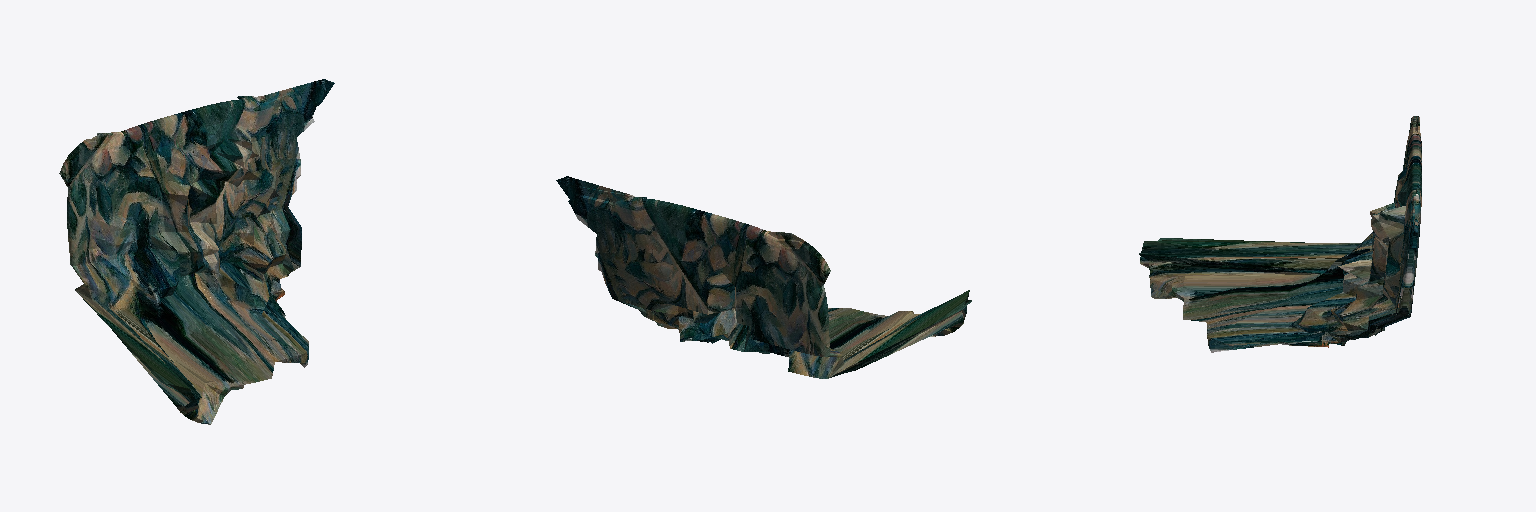
The picture shows the model from 3 angles: view 1: azimuth 30°, elevation 25°; view 2: azimuth 150°, elevation 25°; view 3: azimuth 270°, elevation 25°; orthographic projection.
Visible parts, largest first — view 1: 000_Box_-_baked; view 2: 000_Box_-_baked; view 3: 000_Box_-_baked.
Boxes of the visible parts, box(x1,y1,x2,y2) form: 000_Box_-_baked: box(59, 79, 334, 424); 000_Box_-_baked: box(556, 176, 971, 378); 000_Box_-_baked: box(1139, 116, 1421, 352).
Bounding box in the file's own units: 270 × 172 × 229.
1 materials, 1 textured.